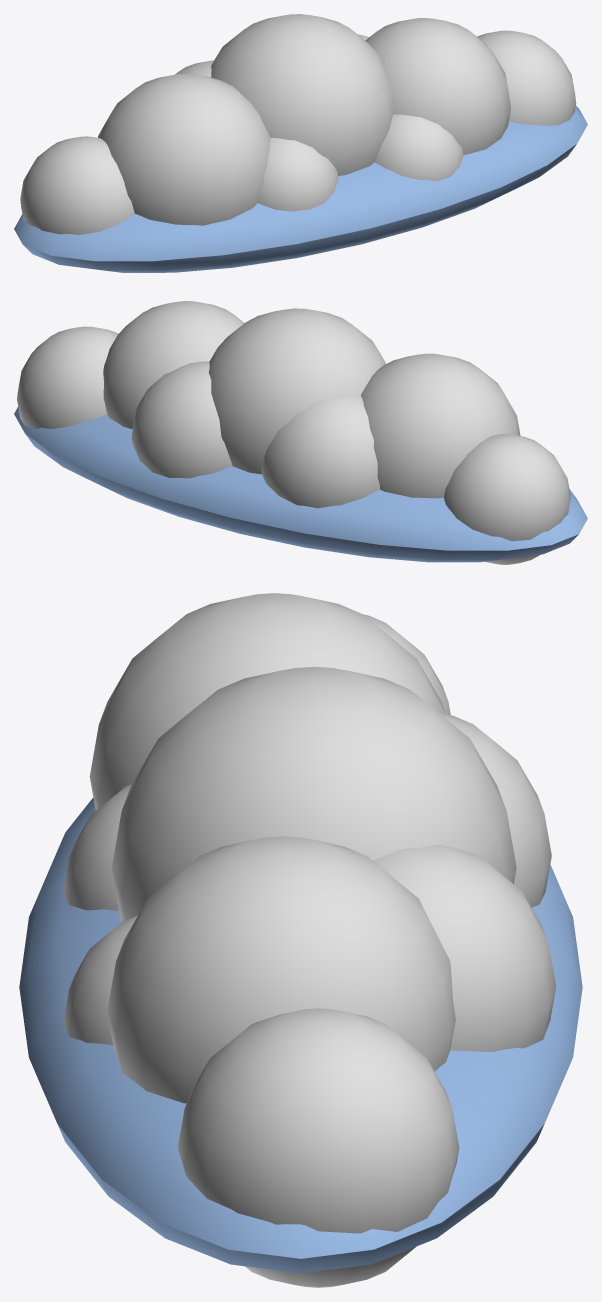
Rendered from CloudPuff.obj.
3 renders of one model, top to bottom at view 1: azimuth 30°, elevation 25°; view 2: azimuth 150°, elevation 25°; view 3: azimuth 270°, elevation 25°, orthographic. The views are drawn at different scales.
Visible parts, largest first — view 1: CloudPuff; view 2: CloudPuff; view 3: CloudPuff.
Part boxes in pixels (x1,y1,x2,y2): CloudPuff: [14, 14, 587, 272]; CloudPuff: [14, 301, 587, 564]; CloudPuff: [19, 593, 582, 1287].
Bounding box in the file's own units: 29.2 × 9.9 × 12.8.
